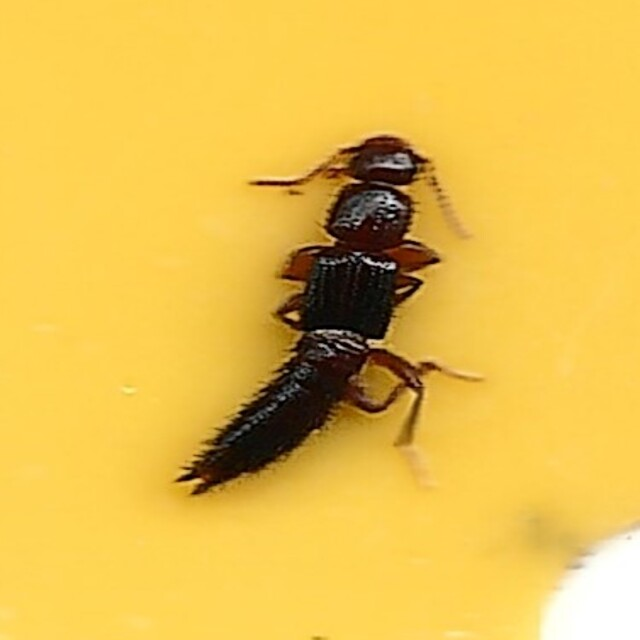Coleoptera: (170, 136, 470, 504)
